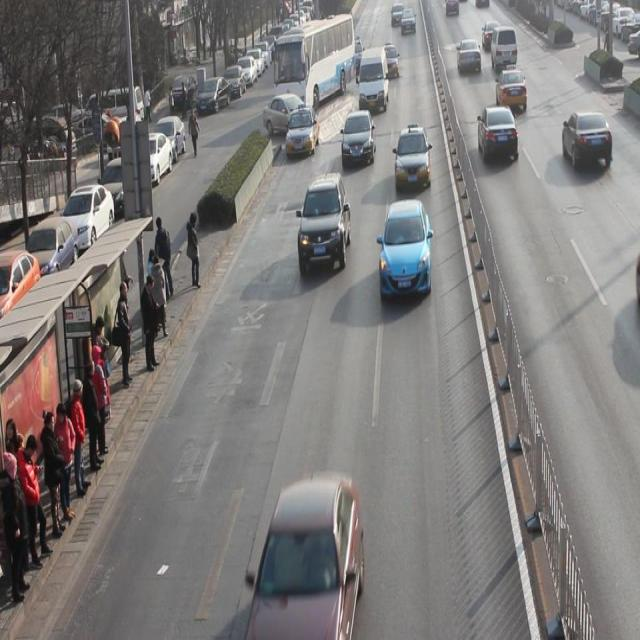car: (245, 467, 365, 640), (298, 173, 352, 273), (380, 196, 432, 298), (563, 110, 613, 172), (263, 94, 316, 140), (478, 105, 519, 164), (396, 125, 432, 191), (342, 111, 377, 168), (286, 106, 320, 158), (497, 70, 528, 114), (456, 39, 482, 75), (482, 20, 503, 52)
truck: (358, 46, 391, 113), (491, 25, 518, 71)
van: (273, 17, 354, 117)
